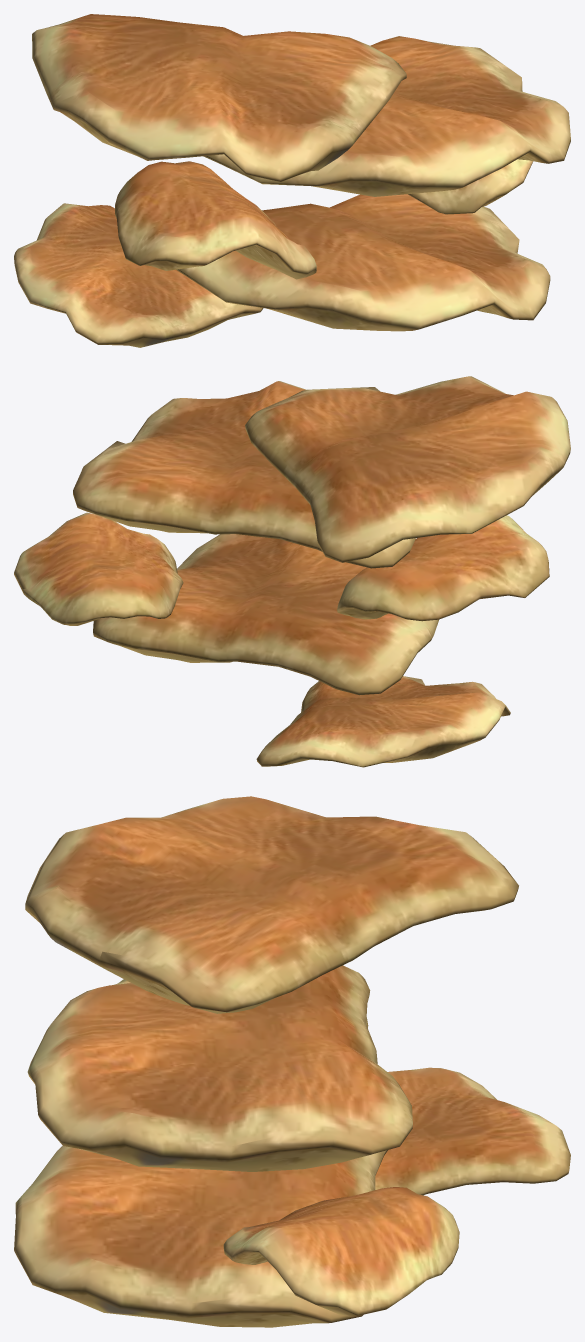
Rendered from mushroom_laetiporus.glb.
3 views of the same model, one above another, from view 1: azimuth 30°, elevation 25°; view 2: azimuth 150°, elevation 25°; view 3: azimuth 270°, elevation 25° (orthographic). The views are drawn at different scales.
Visible parts, largest first — view 1: Mushroom_Laetiporus; view 2: Mushroom_Laetiporus; view 3: Mushroom_Laetiporus.
Part boxes in pixels (left/top/right/bottom): Mushroom_Laetiporus: left=14, top=14, right=570, bottom=347; Mushroom_Laetiporus: left=14, top=376, right=570, bottom=767; Mushroom_Laetiporus: left=14, top=796, right=570, bottom=1327.
Bounding box in the file's own units: 1.37 × 0.767 × 1.1.
1 material, 1 textured.
